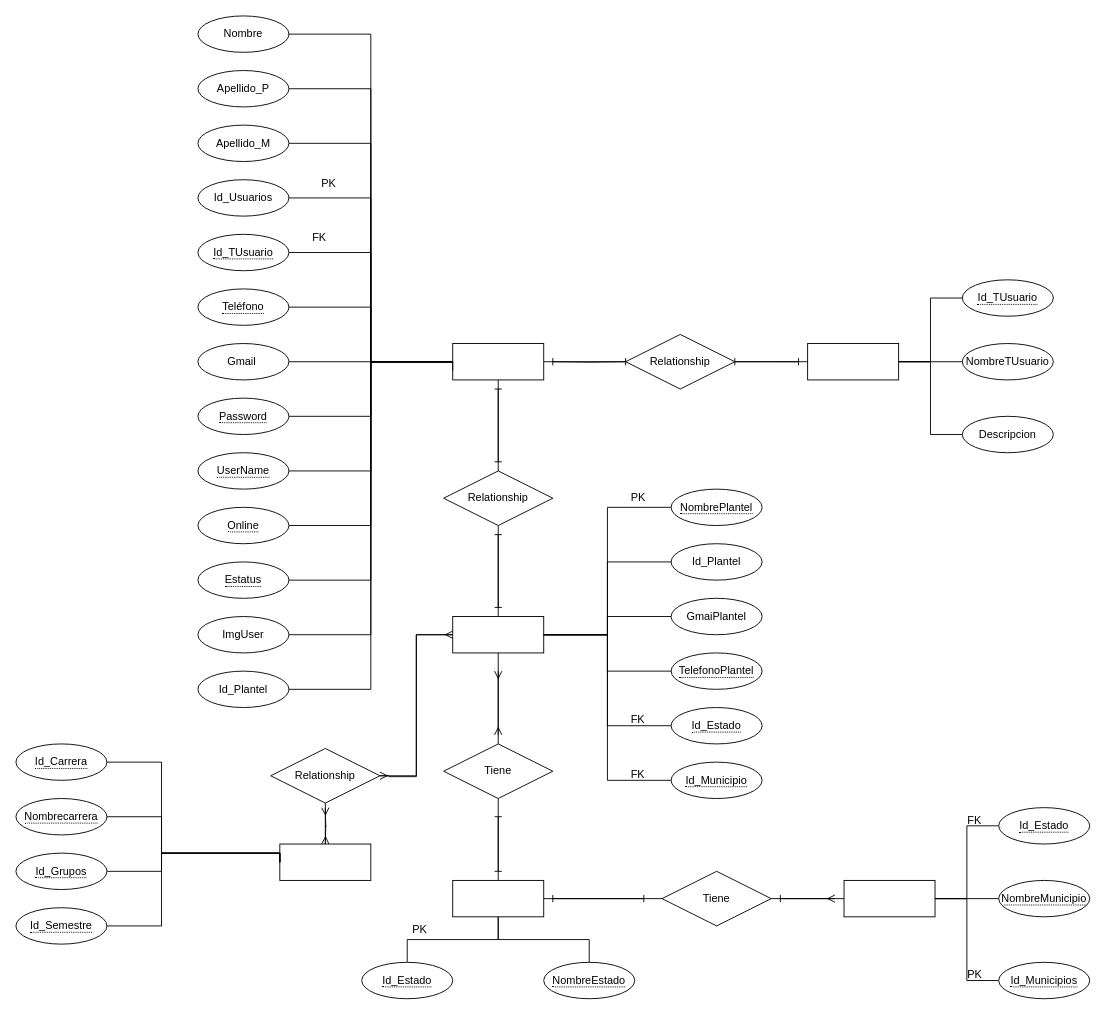
Image size: 1106x1015. Some labels were removed from this diagram. Each missing label, with the box of its shape:
Carrera: (279, 843, 371, 880)
Estado: (452, 880, 544, 917)
Municipio: (843, 880, 935, 917)
Planteles: (452, 616, 544, 653)
TUsuario: (807, 343, 899, 380)
Usuarios: (452, 343, 544, 380)
